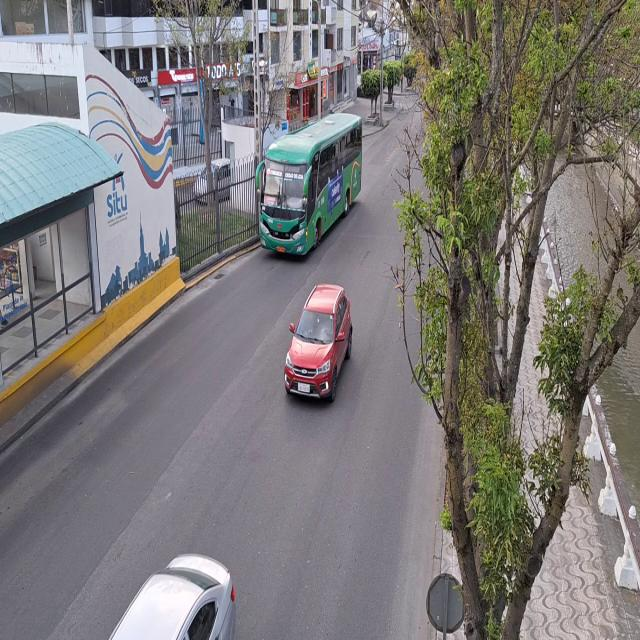BUS: (258, 113, 362, 258)
SUV: (283, 282, 353, 404)
